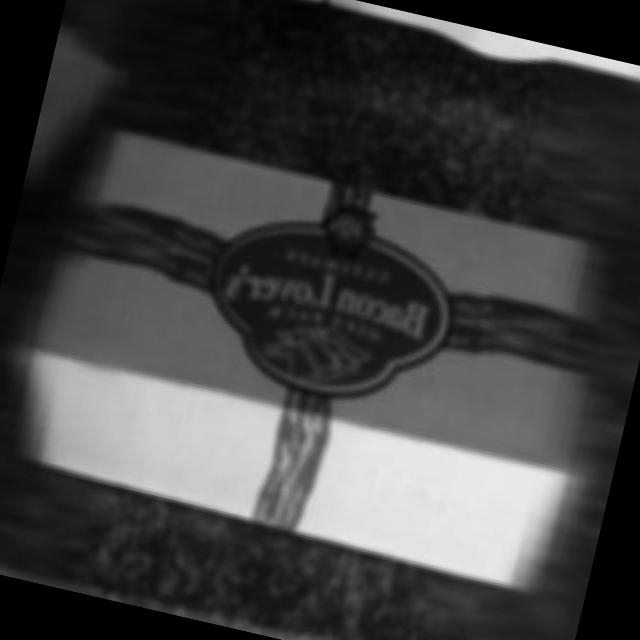box: (12, 95, 638, 602)
